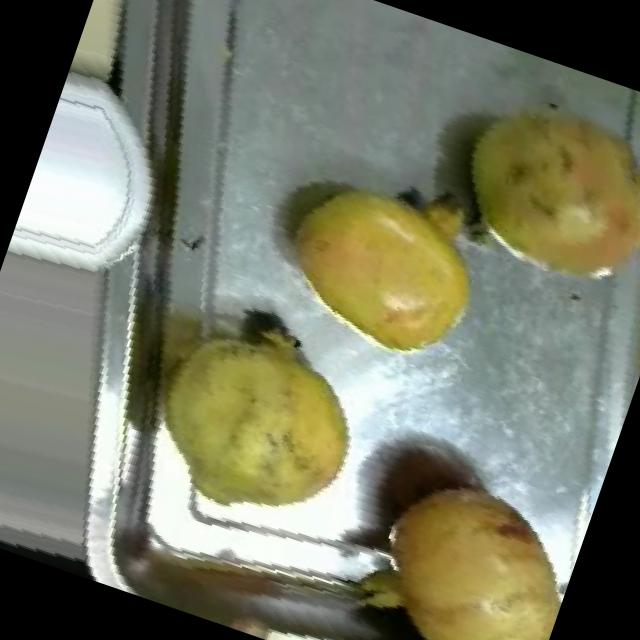fruit: (98, 270, 412, 573), (228, 132, 526, 406), (399, 45, 640, 350), (319, 438, 594, 640), (60, 0, 160, 112)
